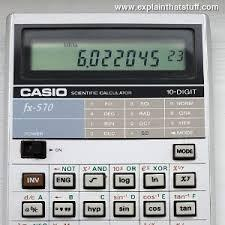Calculator: (0, 9, 224, 225)
